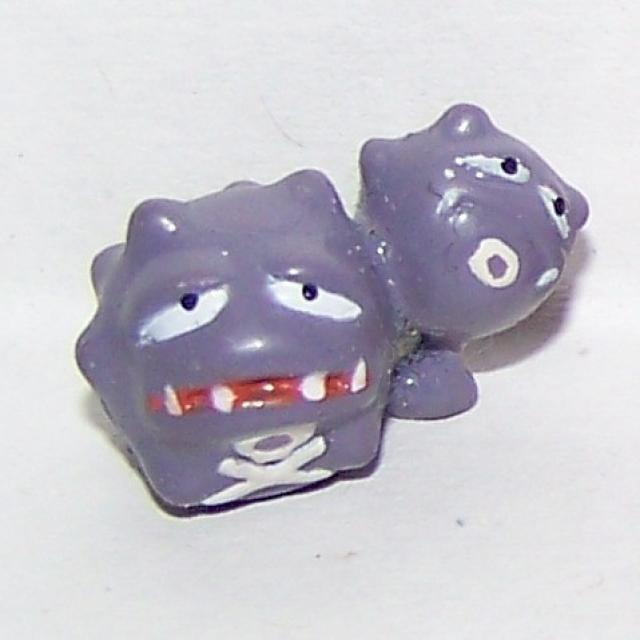Weezing: (68, 110, 584, 526)
